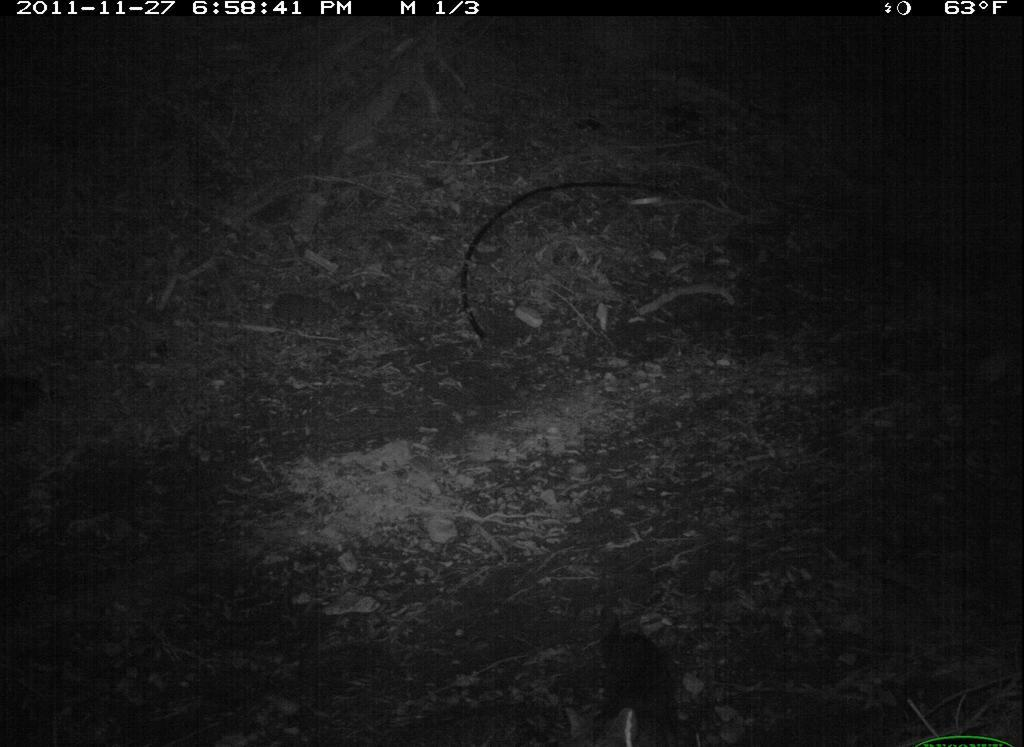cat: (579, 593, 684, 738)
